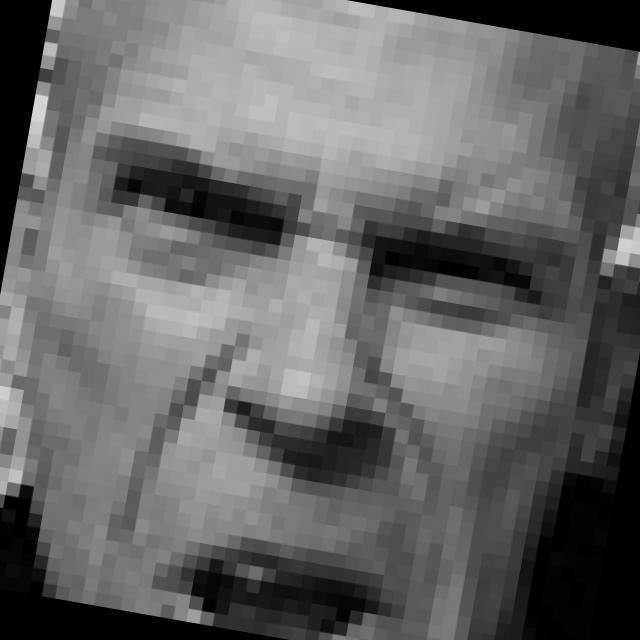angry: (8, 118, 565, 640)
